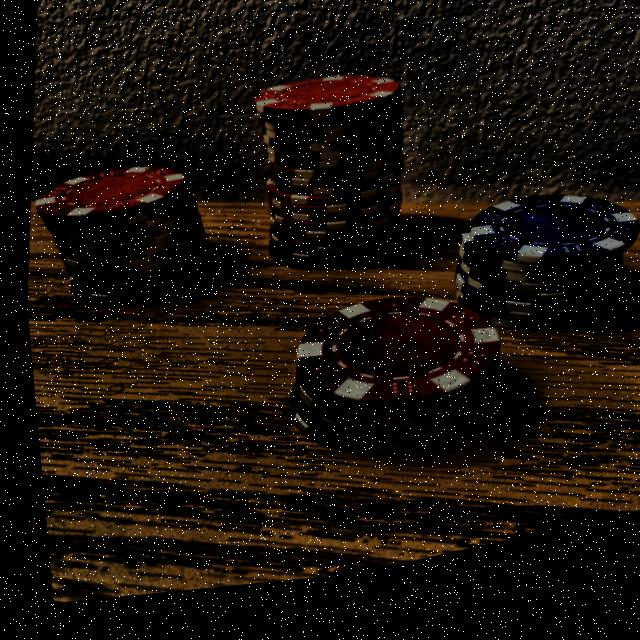Chip: (252, 260, 517, 526), (220, 42, 421, 320), (19, 127, 228, 343), (432, 180, 640, 395)
